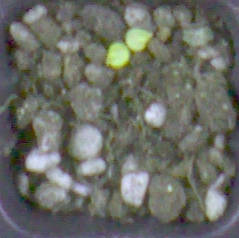pepper seed: (38, 6, 170, 75), (48, 2, 202, 54)
